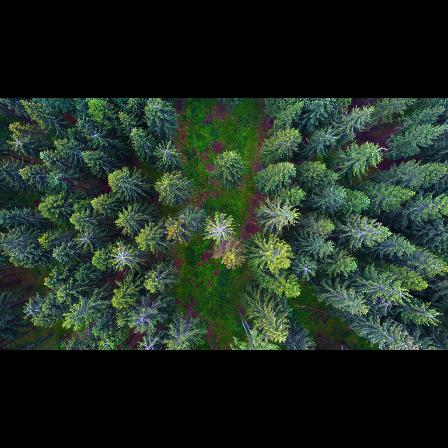Sick: (150, 136, 183, 165), (106, 243, 137, 272), (206, 212, 234, 243), (7, 134, 30, 152)
